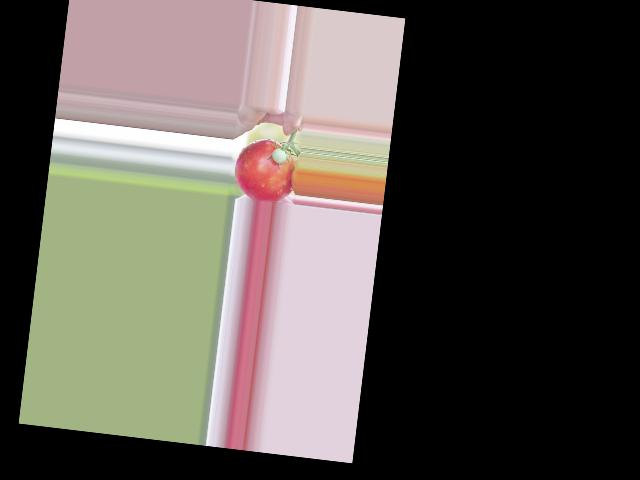tomato: (231, 135, 298, 205)
